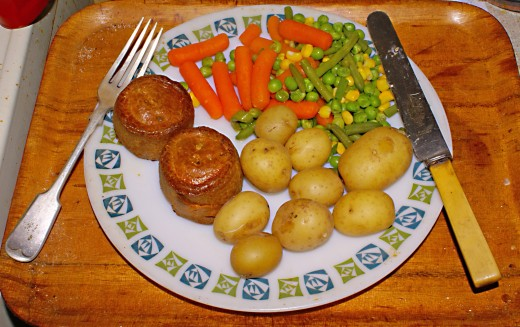boiled peas: (271, 18, 378, 125)
boiled potatoes: (340, 127, 407, 188), (214, 192, 270, 240), (333, 189, 395, 229), (235, 231, 282, 278), (271, 201, 329, 238), (245, 141, 290, 188), (293, 169, 345, 203), (292, 129, 328, 166), (257, 109, 292, 141)
